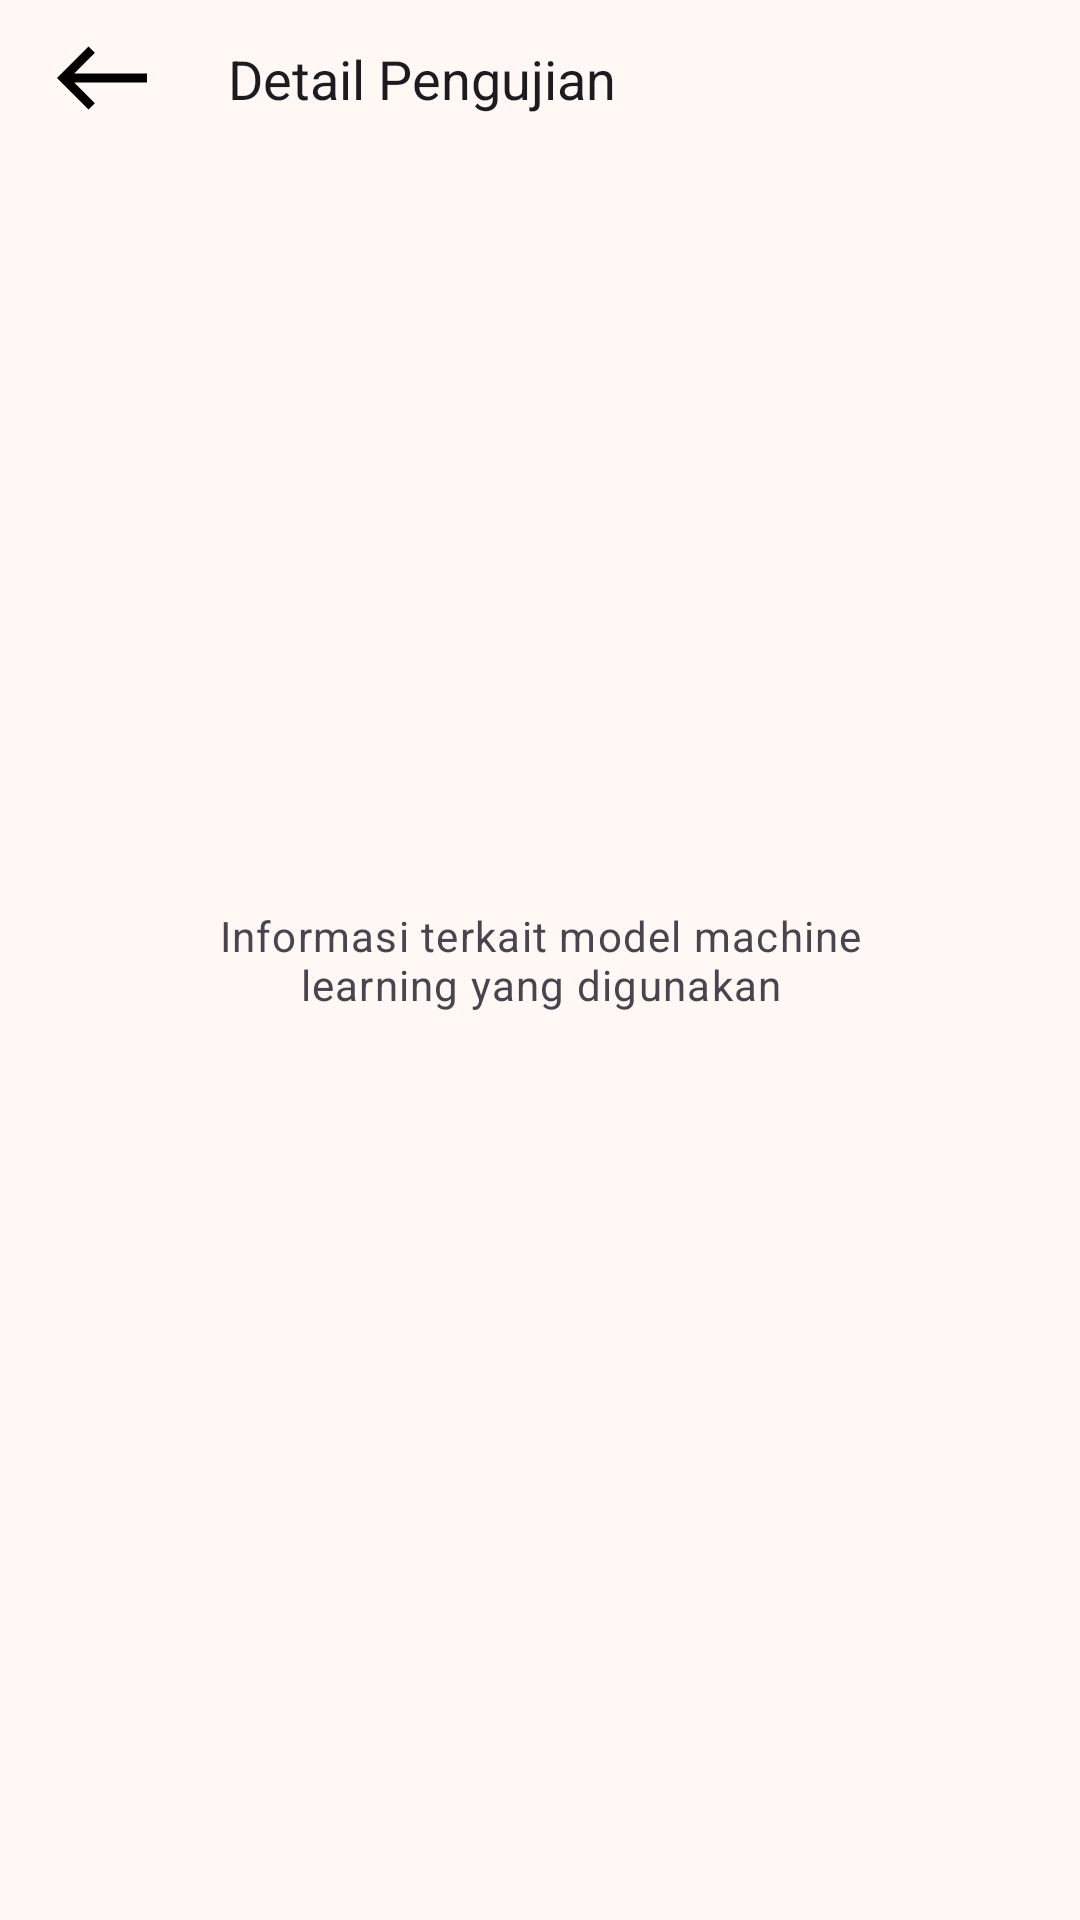

Screen size 1080w x 1920h. Icon name, then its center in pixels as point (x, y):
Back button: point (102, 78)
